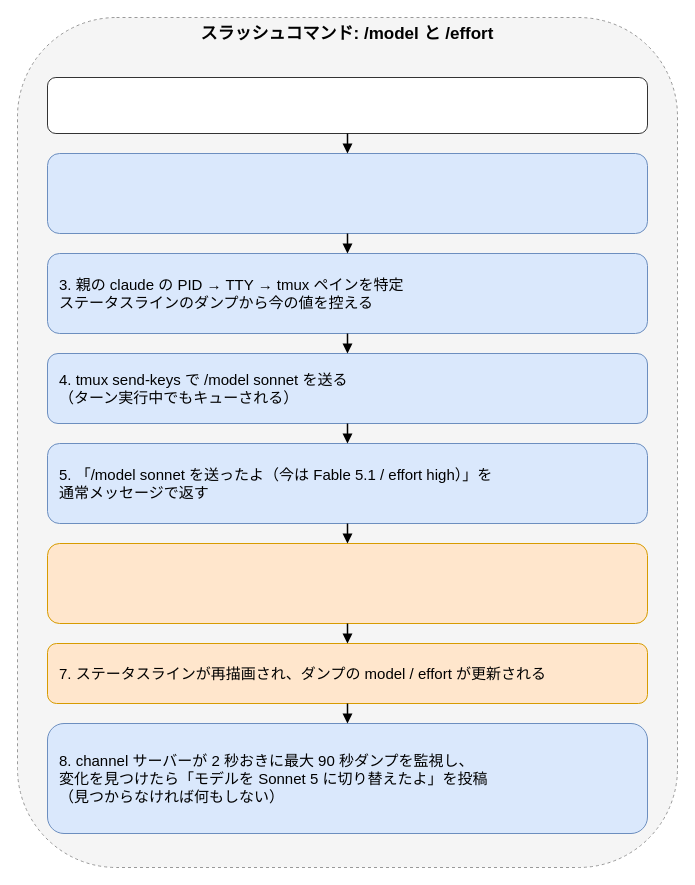
This 695x885 diagram has some shape labels left out. The box of each missing label's shape, as (x1, y1, x2, y2) in pixels:
1. ユーザーが Discord で /model alias:sonnet を送る: (46, 76, 648, 134)
2. channel サーバーが受ける。allowlist とチャンネルを確認し、引数を検証する （無効なら本人だけに NG を返す）: (46, 152, 648, 234)
6. Claude のターンが終わり、キューされた /model が実行される 次のメッセージから新しいモデルになる: (46, 542, 648, 624)
